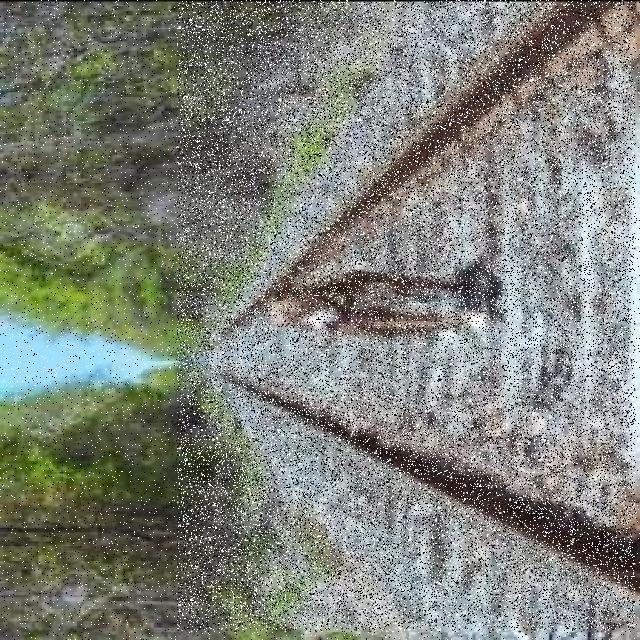danger: (265, 263, 497, 343)
rail: (177, 0, 635, 630)
